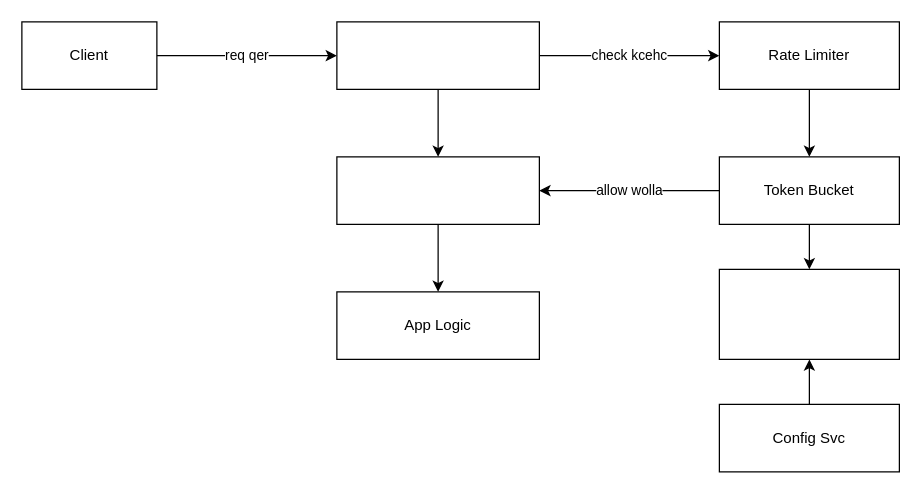
This 921x494 diagram has some shape labels left out. Each missing label, with the centre of its shape:
"Backend API" goes at [437,190].
"Edge Proxy" goes at [437,55].
"Redis Store (counters)" goes at [808,313].
